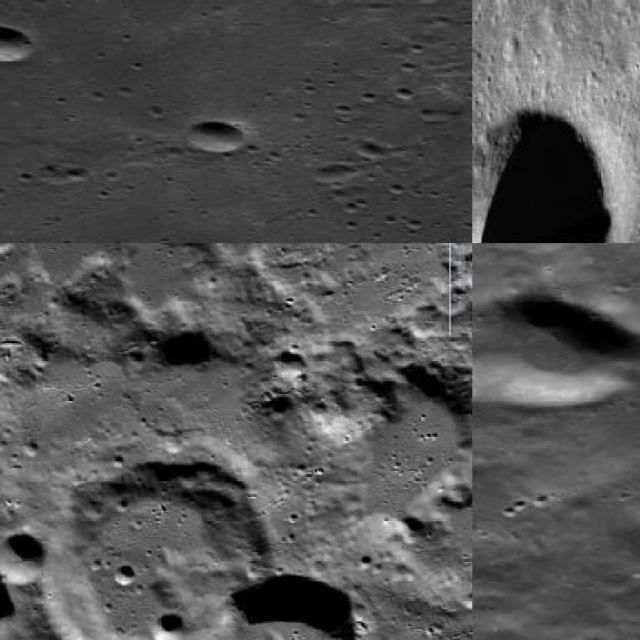crater: (49, 462, 269, 638), (472, 295, 638, 408), (472, 110, 605, 242), (217, 576, 354, 638), (0, 532, 46, 586), (185, 121, 248, 152), (0, 26, 34, 62), (154, 616, 188, 638), (114, 566, 135, 586)
